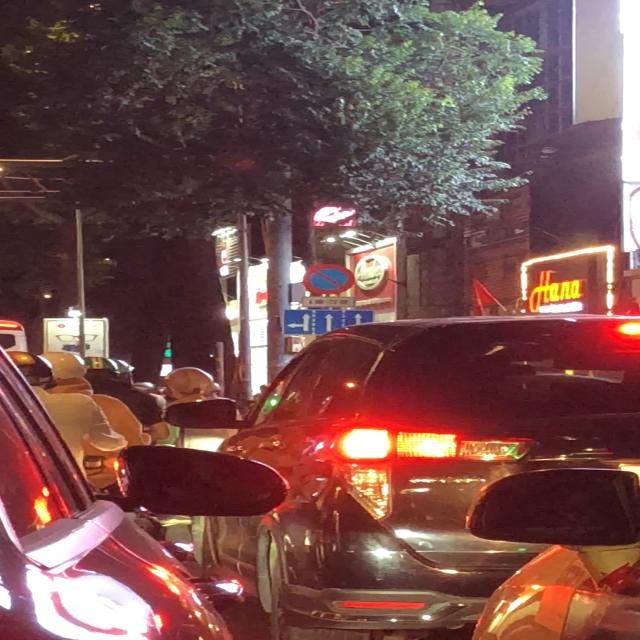Bien bao cam do xe: (300, 264, 358, 296)
